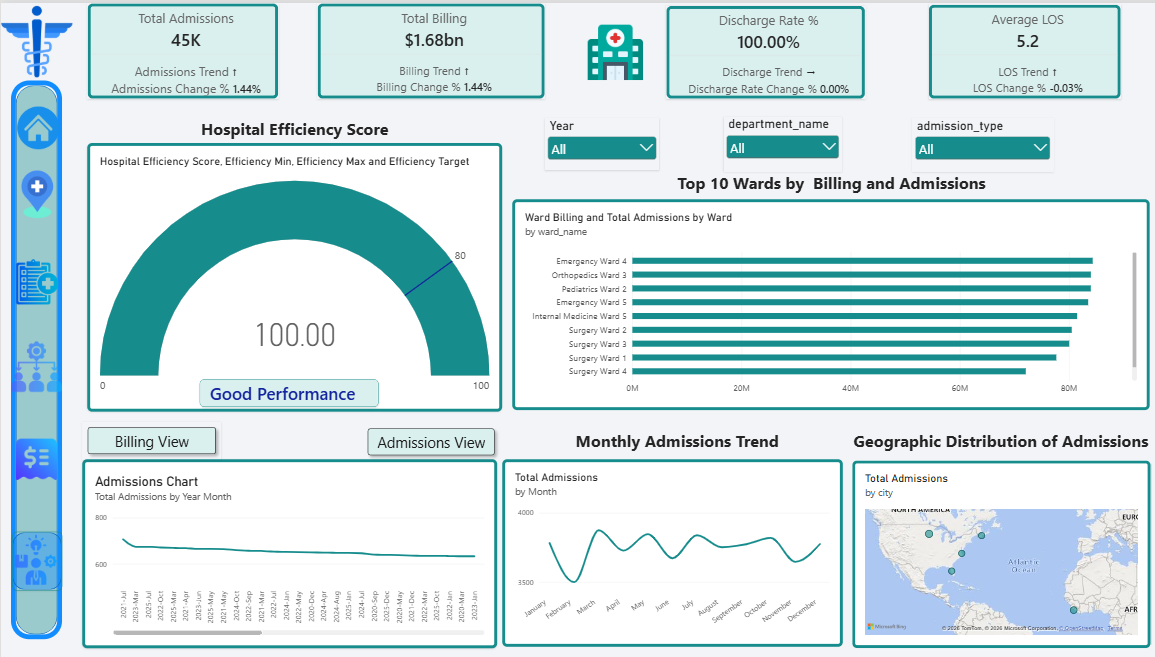

What the dashboard file says about the page in this screenshot:
{"tool":"powerbi","page":{"name":"Executive Intelligence","canvas":[1920,1080],"ordinal":6},"visuals":[{"type":"cardVisual","fields":{"Data":["Measures (2).Total Admissions"]},"box":[143,0,315.1,158.7],"z":0},{"type":"cardVisual","fields":{"Data":["Measures (2).Total Billing"]},"box":[520.7,0,375.4,158.7],"z":1000},{"type":"cardVisual","fields":{"Data":["Measures (2).Average LOS"]},"box":[1526.3,2.2,317.3,156.4],"z":2000},{"type":"lineChart","title":"Admissions Chart","fields":{"Category":["Calendar.Year Month"],"Y":["Measures (2).Total Admissions"]},"box":[133.8,751.3,683.4,310.8],"z":3000},{"type":"slicer","fields":{"Values":["Calendar.Year"]},"box":[896.4,189.1,189.1,86.7],"z":4000},{"type":"slicer","fields":{"Values":["department_clean.department_name"]},"box":[1189.7,187.3,195.5,90.6],"z":5000},{"type":"slicer","fields":{"Values":["admission_clean.admission_type"]},"box":[1501.4,189.1,232.6,88.5],"z":6000},{"type":"shape","box":[16.5,127.6,84.4,920.1],"z":7000},{"type":"image","box":[0,0,117.3,127.6],"z":9000},{"type":"image","box":[960.9,2.2,100.9,158.5],"z":10000},{"type":"image","box":[26.8,158.7,70,94.7],"z":11000},{"type":"image","box":[16.5,642.2,84.4,218.2],"z":12000},{"type":"image","box":[16.5,496.1,84.4,205.8],"z":13000},{"type":"image","box":[16.5,846,82.3,142],"z":14000},{"type":"image","box":[6.2,422,107,74.1],"z":15000},{"type":"image","box":[6.7,274.9,107.3,78.2],"z":16000},{"type":"cardVisual","fields":{"Data":["Measures (2).Discharge Rate %"]},"box":[1095,4.5,328.5,154.2],"z":17000},{"type":"clusteredBarChart","fields":{"Category":["ward_clean.ward_name"],"Y":["Measures (2).Ward Billing"]},"box":[842.5,324,1049.9,347],"z":18000},{"type":"map","fields":{"Category":["patient_clean.city"],"Size":["Measures (2).Total Admissions"]},"box":[1401.3,754,491.6,309.2],"z":19000},{"type":"gauge","fields":{"MaxValue":["Measures (2).Efficiency Max"],"MinValue":["Measures (2).Efficiency Min"],"TargetValue":["Measures (2).Efficiency Target"],"Y":["Measures (2).Hospital Efficiency Score"]},"box":[142,230.5,683.4,442.5],"z":20000},{"type":"cardVisual","fields":{"Data":["Measures (2).Hospital Performance Status"]},"box":[327.3,619.6,294.3,45.3],"z":21000},{"type":"lineChart","fields":{"Category":["Calendar.Date.Variation.Date Hierarchy.Month"],"Y":["Measures (2).Total Admissions"]},"box":[825.2,751.8,560.5,309.2],"z":22000},{"type":"actionButton","title":"Admissions","box":[594.9,691.6,226.9,62.3],"z":23000},{"type":"actionButton","box":[133.5,689.5,229.1,62.3],"z":24000},{"type":"textbox","box":[142,189.4,683.4,41.2],"z":25000},{"type":"textbox","box":[841.9,277.9,1051.8,61.7],"z":26000},{"type":"textbox","box":[841.9,701.9,543.4,51.5],"z":27000},{"type":"textbox","box":[1401.7,701.9,489.9,51.5],"z":28000},{"type":"shape","box":[18.5,870.7,82.3,96.7],"z":29000}]}

Visuals, with their boxes on the page's 1920x1080 design canvas (x1, y1, x2, y2). These are canvas units, not pixel positions in the 1155x657 screenshot, which may show the page scaled, cropped or inside an application window:
cardVisual - Measures (2).Total Admissions: 143:0:458:159
cardVisual - Measures (2).Total Billing: 521:0:896:159
cardVisual - Measures (2).Average LOS: 1526:2:1844:159
"Admissions Chart" lineChart: 134:751:817:1062
slicer - Calendar.Year: 896:189:1086:276
slicer - department_clean.department_name: 1190:187:1385:278
slicer - admission_clean.admission_type: 1501:189:1734:278
shape: 16:128:101:1048
image: 0:0:117:128
image: 961:2:1062:161
image: 27:159:97:253
image: 16:642:101:860
image: 16:496:101:702
image: 16:846:99:988
image: 6:422:113:496
image: 7:275:114:353
cardVisual - Measures (2).Discharge Rate %: 1095:4:1424:159
clusteredBarChart - ward_clean.ward_name x Measures (2).Ward Billing: 842:324:1892:671
map - patient_clean.city x Measures (2).Total Admissions: 1401:754:1893:1063
gauge - Measures (2).Efficiency Max x Measures (2).Efficiency Min: 142:230:825:673
cardVisual - Measures (2).Hospital Performance Status: 327:620:622:665
lineChart - Calendar.Date.Variation.Date Hierarchy.Month x Measures (2).Total Admissions: 825:752:1386:1061
"Admissions" actionButton: 595:692:822:754
actionButton: 134:690:363:752
textbox: 142:189:825:231
textbox: 842:278:1894:340
textbox: 842:702:1385:753
textbox: 1402:702:1892:753
shape: 18:871:101:967
